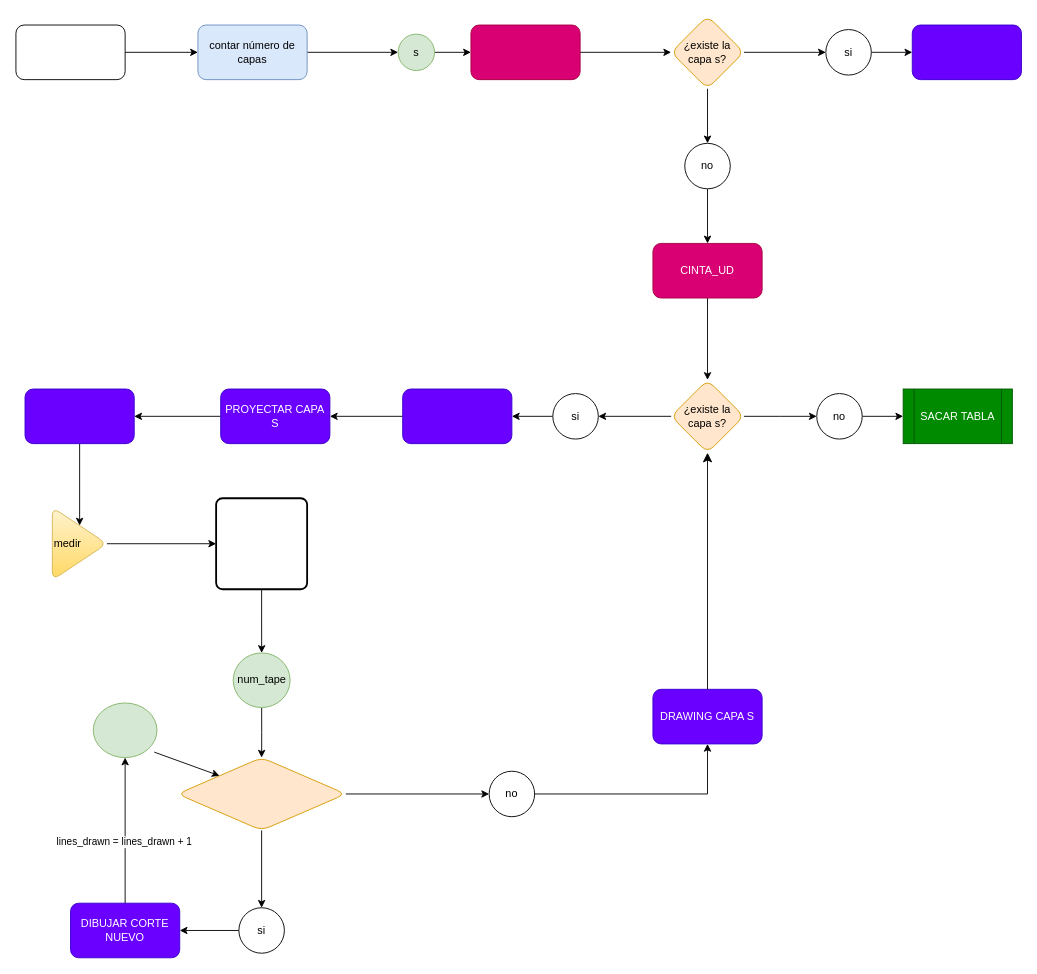
Image size: 1037x974. Some labels were removed from this diagram. The shapes that lost their labels are listed below. From the top down, each one's centre as x and y in pixels, then its label:
At [70,52]: "START".
At [525,52]: "FLATTENING".
At [966,52]: "FUNCIONES CLICK".
At [79,416]: "DIBUJAR LIMITES CANTIDAD MATERIAL".
At [457,416]: "CREAR SKETCH".
At [261,543]: "- length - width -num_tape".
At [124,730]: "lines_drawn".
At [261,793]: "¿lines_drawn < num_tape?".
